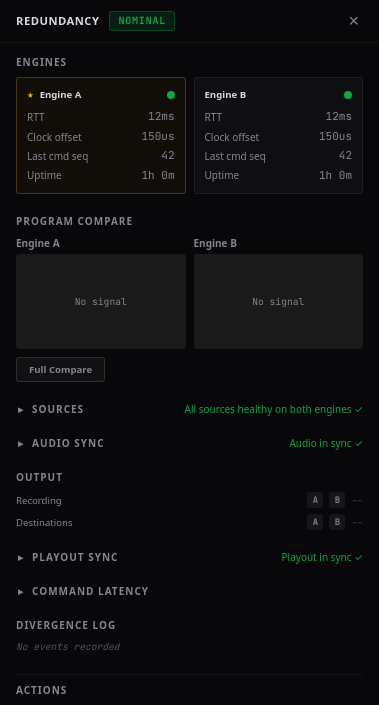
it: RedundancyPanel › shows each engine's average command latency
The image size is (379, 705).
Step 1. Click the button with class "section-toggle" showing "▸ COMMAND LATENCY" → (90, 591), box [16, 584, 363, 598]
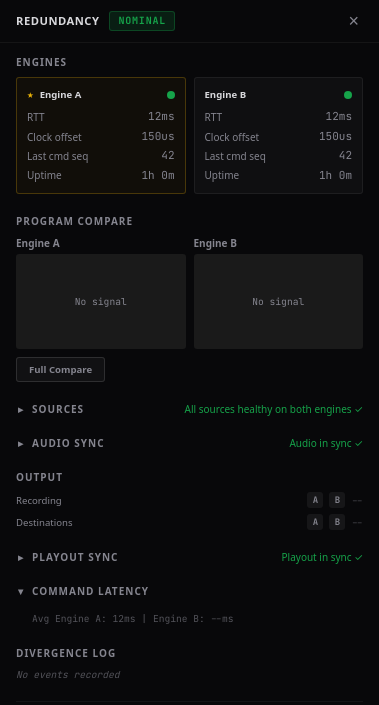
Check: the text with class "latency-summary" reads "Avg Engine A: 12ms | Engine B: --ms", box [32, 612, 234, 625]
